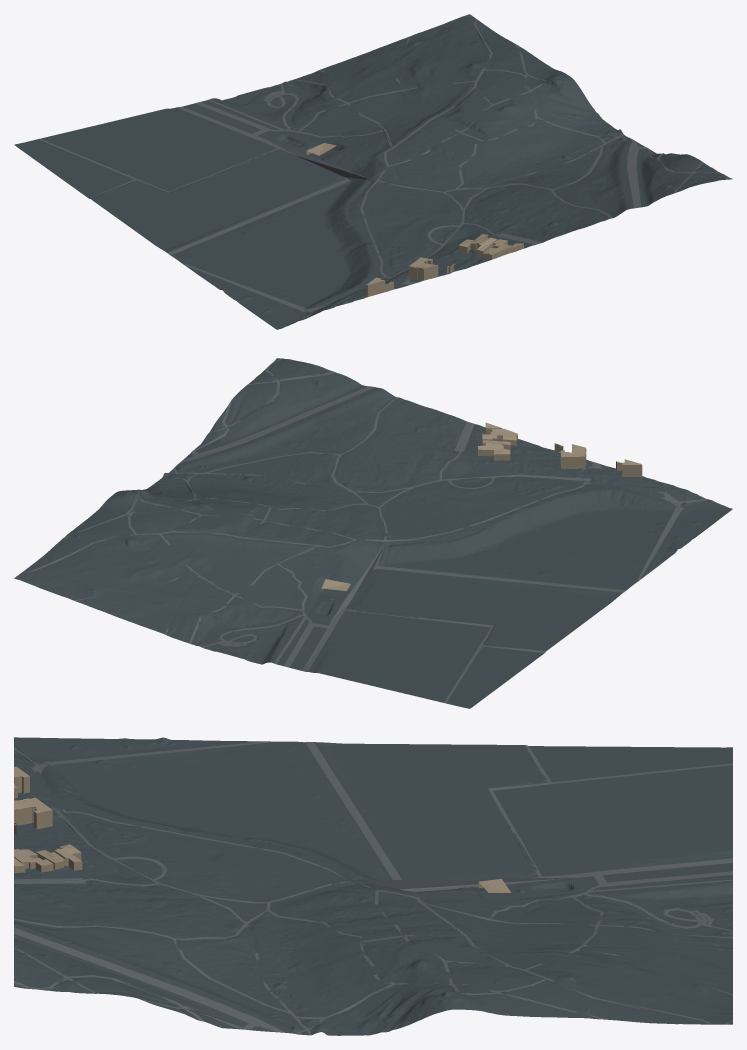
The model's file is epsg26910-1433-10870.lod0.glb.
3 renders of one model, top to bottom at view 1: azimuth 30°, elevation 25°; view 2: azimuth 150°, elevation 25°; view 3: azimuth 270°, elevation 25°, orthographic. The views are drawn at different scales.
Visible parts, largest first — view 1: epsg26910-1433-10870-lod0; view 2: epsg26910-1433-10870-lod0; view 3: epsg26910-1433-10870-lod0.
Part boxes in pixels (x1=…): epsg26910-1433-10870-lod0: x1=14, y1=14, x2=732, y2=329; epsg26910-1433-10870-lod0: x1=14, y1=358, x2=732, y2=708; epsg26910-1433-10870-lod0: x1=14, y1=737, x2=732, y2=1035.
Bounding box in the file's own units: 384 × 45.12 × 384.
